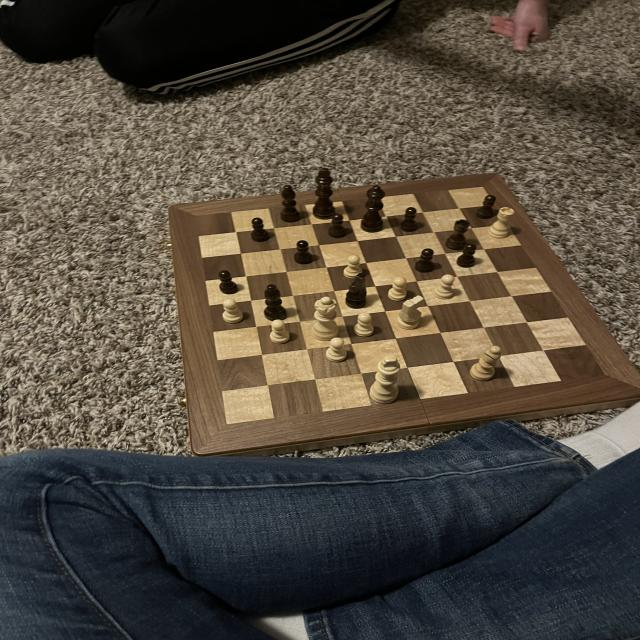bishop: (276, 180, 309, 224), (258, 280, 290, 323)
black-bishop: (308, 166, 346, 223)
black-king: (343, 272, 372, 312)
black-knight: (291, 239, 319, 269), (214, 268, 243, 296), (470, 192, 500, 219), (410, 248, 439, 274), (247, 215, 272, 245), (399, 204, 421, 232), (326, 214, 348, 241), (457, 242, 478, 270)
black-pawn: (357, 182, 392, 238)
black-queen: (445, 218, 473, 252)
black-rook: (467, 344, 503, 382)
white-bishop: (364, 352, 404, 410)
white-king: (396, 291, 422, 332)
white-knight: (431, 272, 460, 303), (349, 310, 378, 339), (220, 297, 247, 326), (269, 317, 294, 347), (325, 338, 349, 366), (386, 274, 409, 302), (340, 252, 364, 278)
white-pawn: (308, 293, 342, 344)
white-queen: (486, 206, 524, 240)
